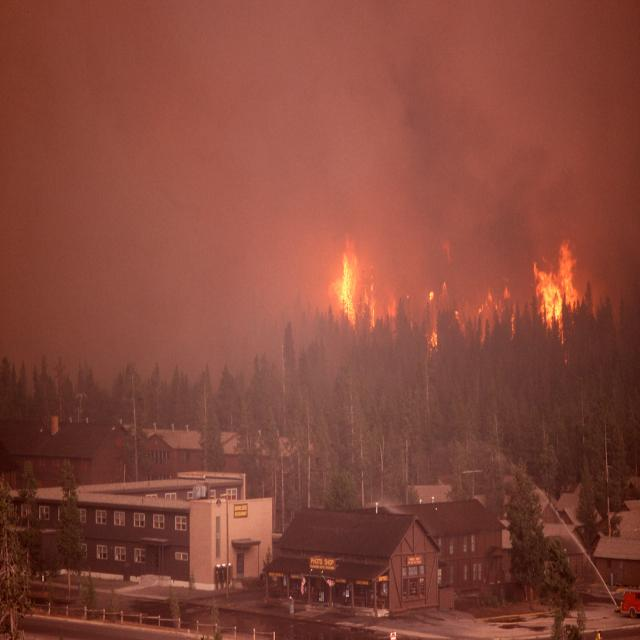fire: (531, 247, 579, 319), (338, 244, 362, 341)
